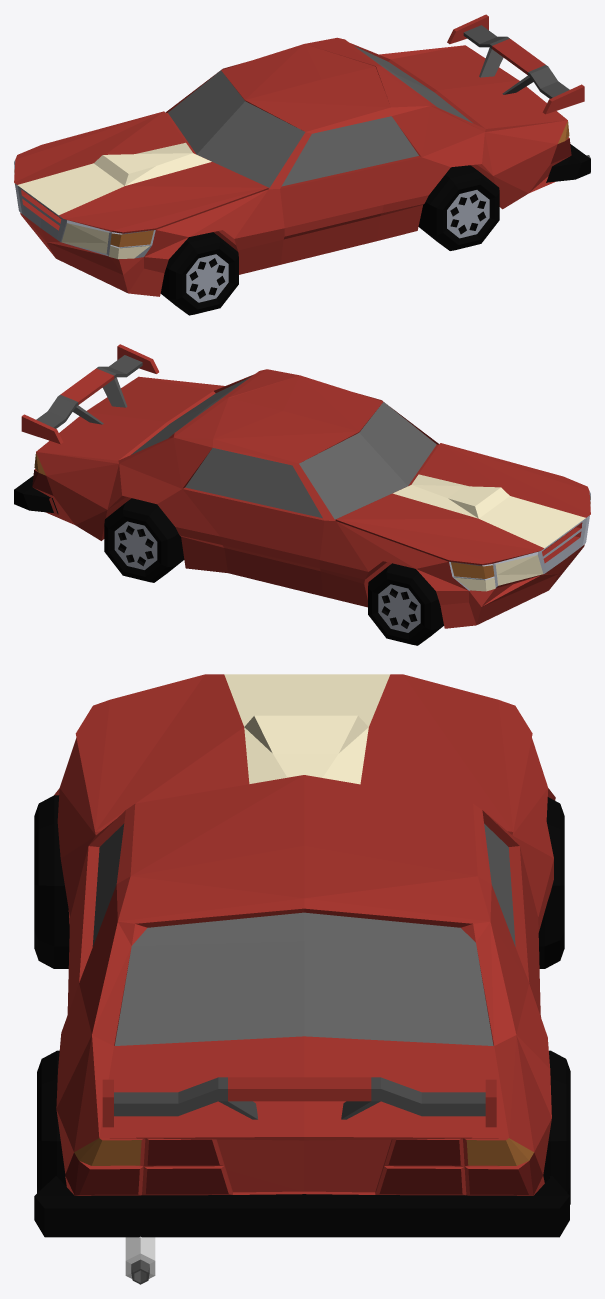
The model's file is Car_2.fbx.
3 renders of one model, top to bottom at view 1: azimuth 30°, elevation 25°; view 2: azimuth 150°, elevation 25°; view 3: azimuth 270°, elevation 25°, orthographic. The views are drawn at different scales.
Parts seen in each view (by area): view 1: car body.004, front wheels.013, front wheels.015, spoiler.001; view 2: car body.004, front wheels.013, front wheels.015, spoiler.001; view 3: car body.004, spoiler.001, front wheels.015, front wheels.013, exhaust.007.
Part boxes in pixels (box(x1,y1,x2,y2)): car body.004: box(14, 37, 590, 296); front wheels.013: box(418, 165, 499, 250); front wheels.015: box(160, 232, 238, 315); spoiler.001: box(447, 14, 584, 114); car body.004: box(14, 369, 590, 628); front wheels.013: box(104, 498, 184, 582); front wheels.015: box(368, 563, 443, 645); spoiler.001: box(21, 344, 158, 444); car body.004: box(34, 674, 569, 1237); spoiler.001: box(102, 1077, 496, 1127); front wheels.015: box(34, 795, 564, 968); front wheels.013: box(37, 1050, 570, 1204); exhaust.007: box(125, 1236, 155, 1284).
Bounding box in the file's own units: 11069 × 2968 × 5048.
